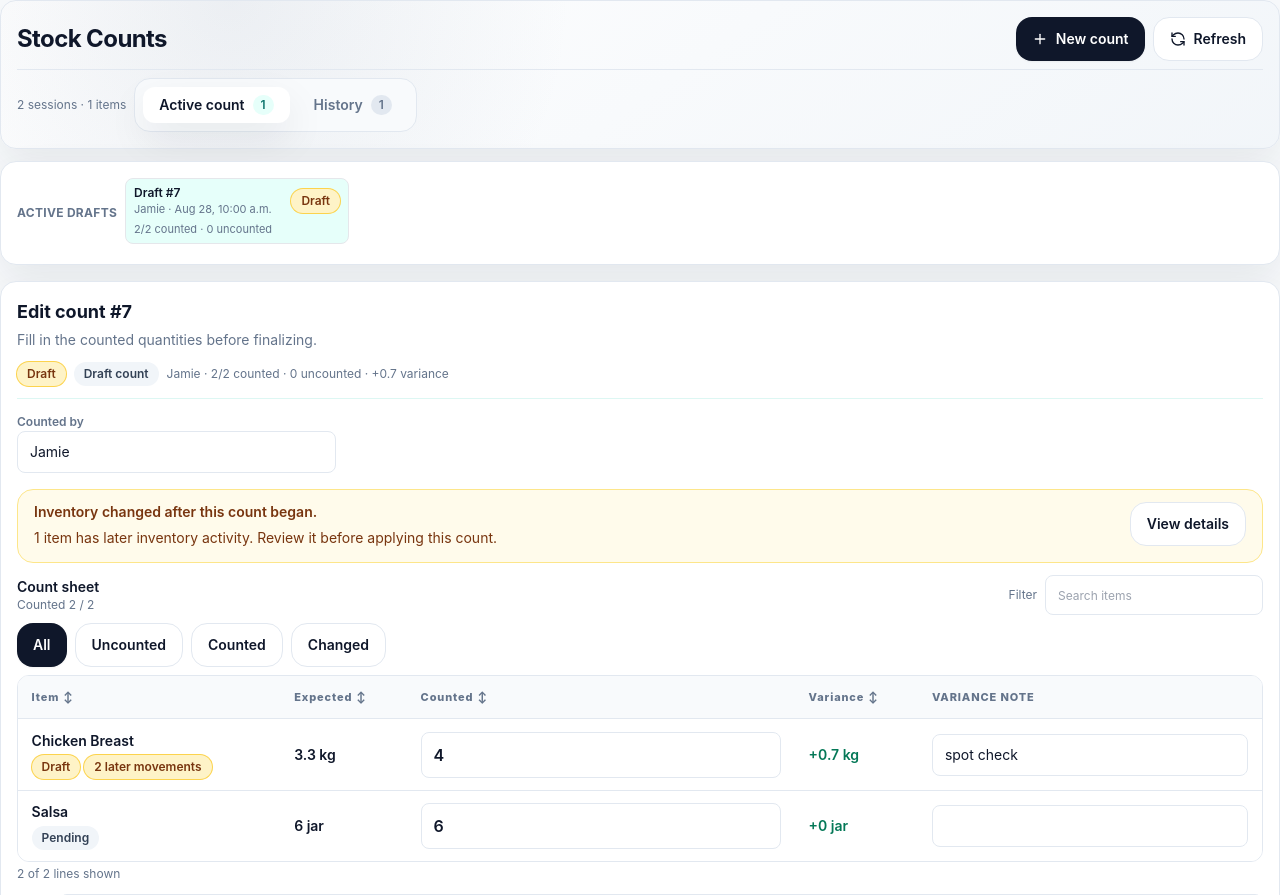
Test: PilotStockCountsPage › shows later movement warnings without a fake review action
expect the text "Inventory changed after this count began." is shown: met, box [34, 503, 317, 520]
expect the text "1 item has later inventory activity. Review it before applying this count." is shown: met, box [34, 526, 497, 550]
Click the button "View details" at (1188, 524), box [1130, 502, 1246, 546]
(page scrolled)
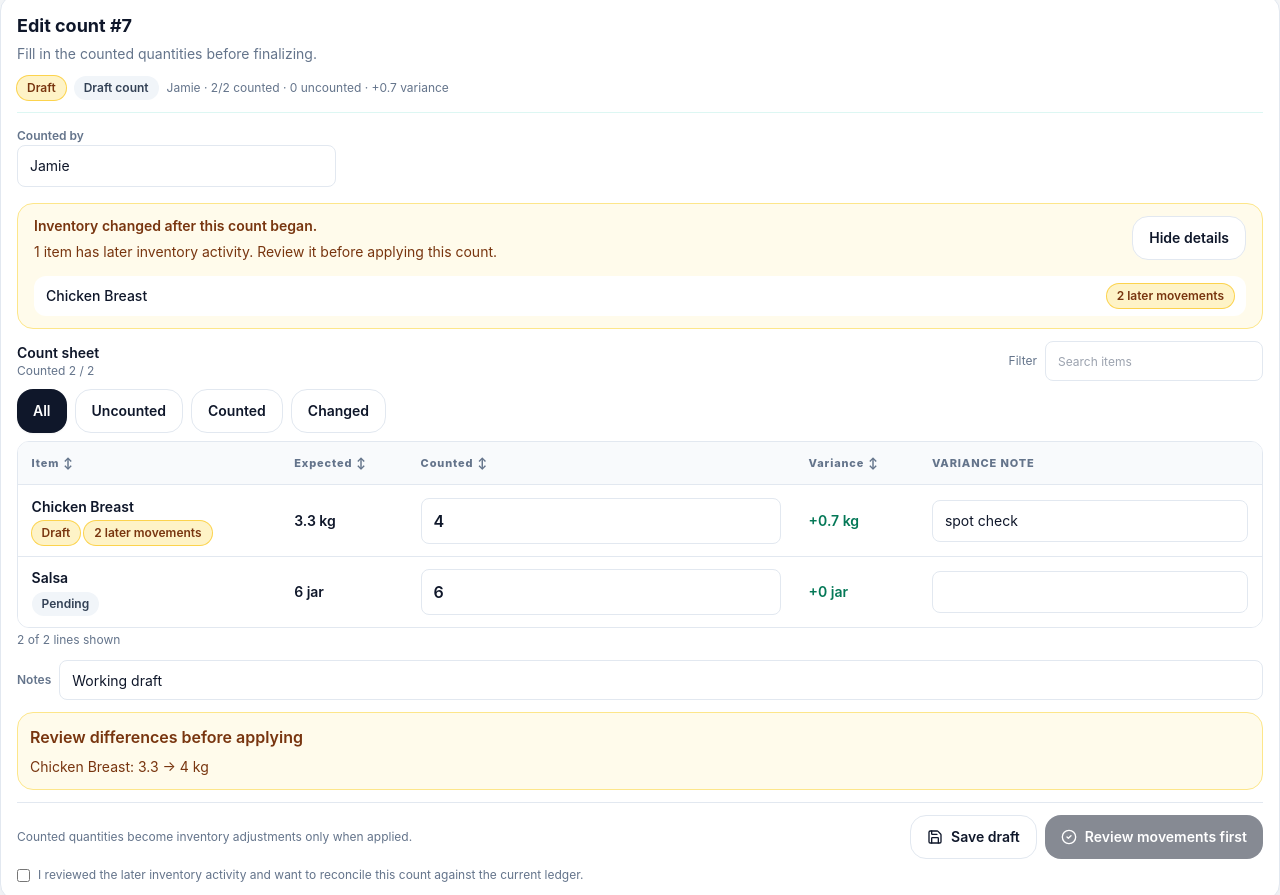
expect the button "Review movements first" is disabled: met, box [1045, 815, 1263, 859]
expect the 1st text "2 later movements" is shown: met, box [1107, 284, 1234, 308]
expect the button "Hide details" is shown: met, box [1132, 216, 1246, 260]
Click the checkbox named "I reviewed the later inventory activity and want to reconcile this count against the current ledger." at (24, 875), box [17, 869, 30, 882]
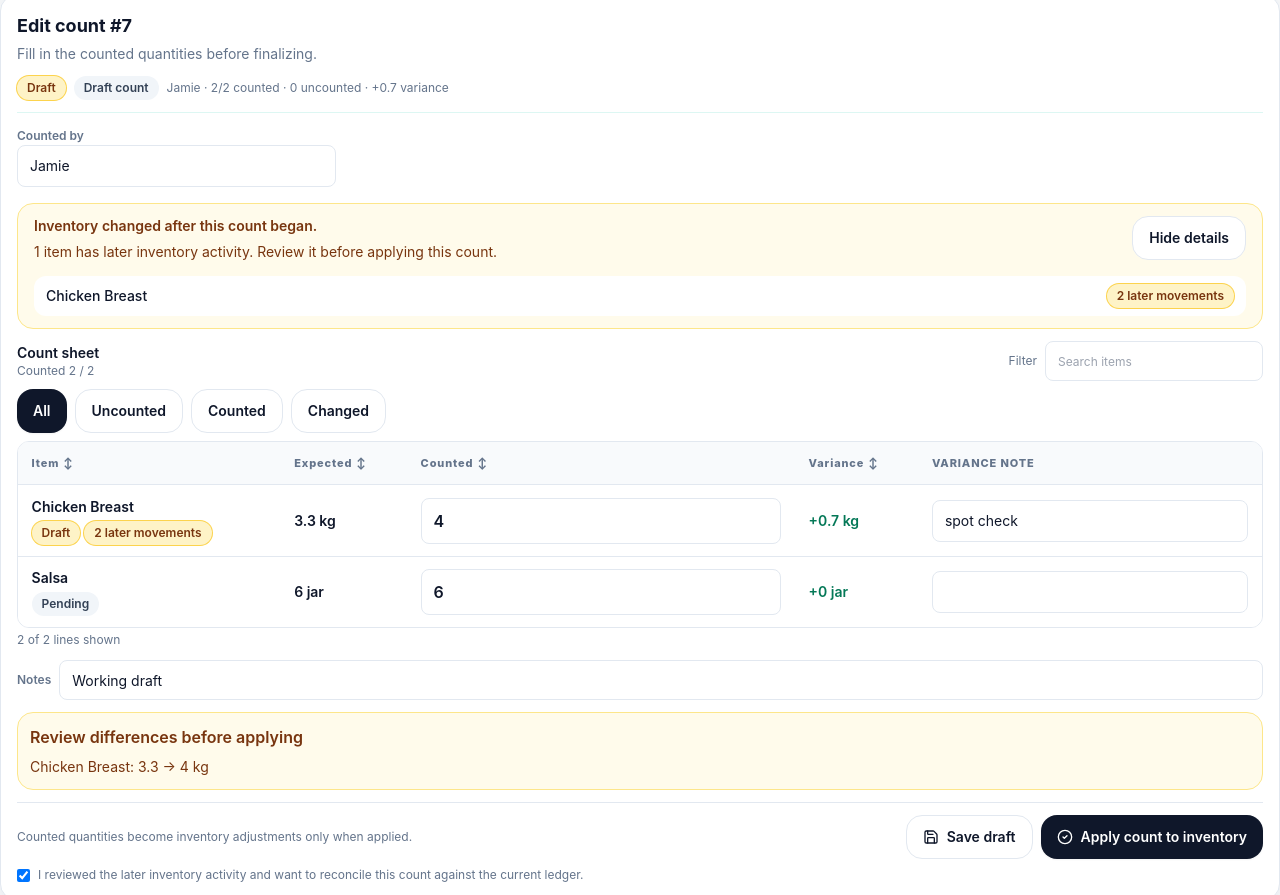
expect the button "Apply count to inventory" is enabled: met, box [1040, 815, 1263, 859]
